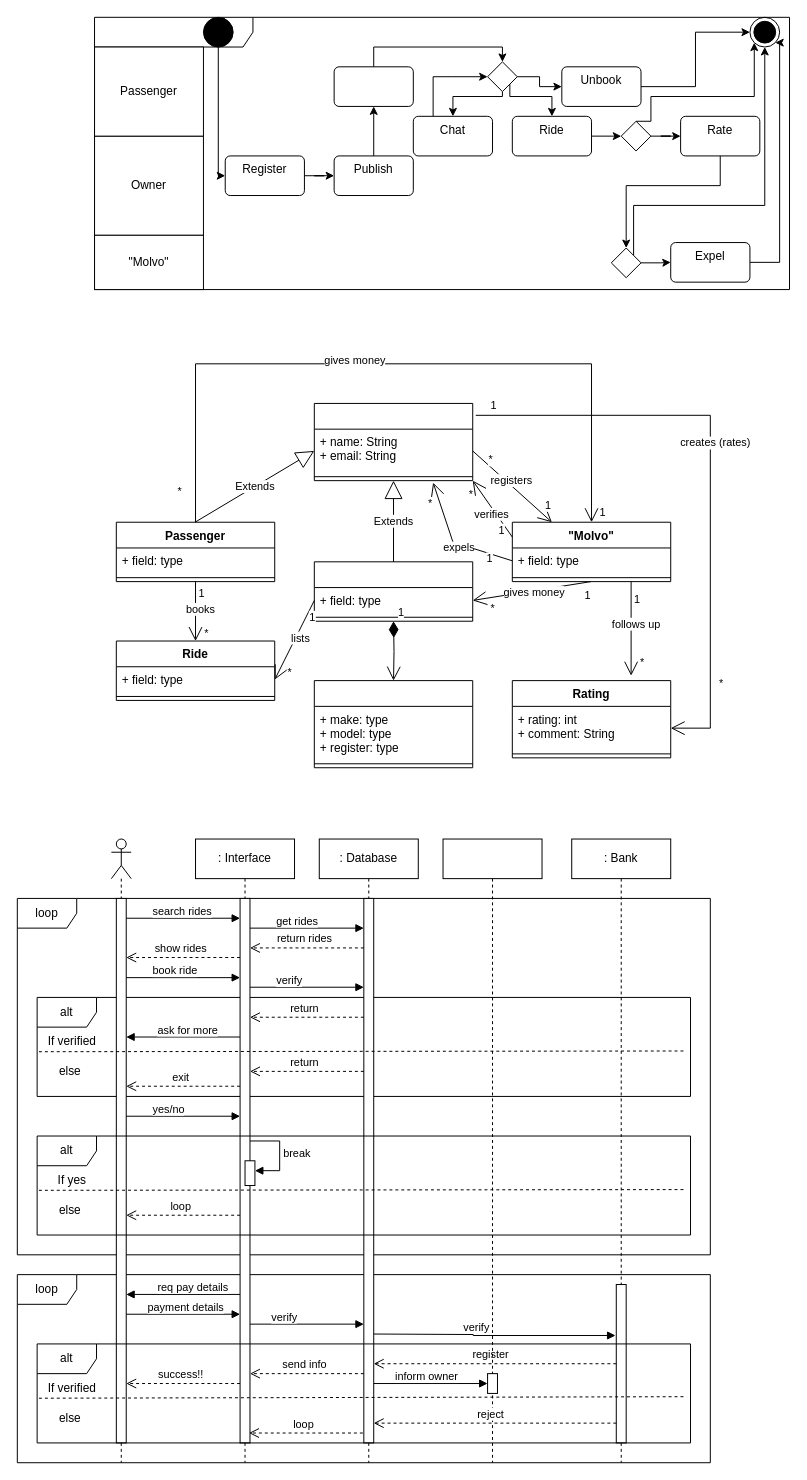
Some shapes in this 807 by 1480 pixel diagram are drawn without their labels. The box of each missing label's shape, as (x1, y1, x2, y2) in pixels:
: CarOwner: (442, 838, 542, 1463)
act: (94, 16, 790, 290)
Book: (333, 66, 413, 106)
CarOwner: (313, 561, 473, 621)
Person: (313, 402, 473, 481)
Vehicle: (313, 680, 473, 768)
